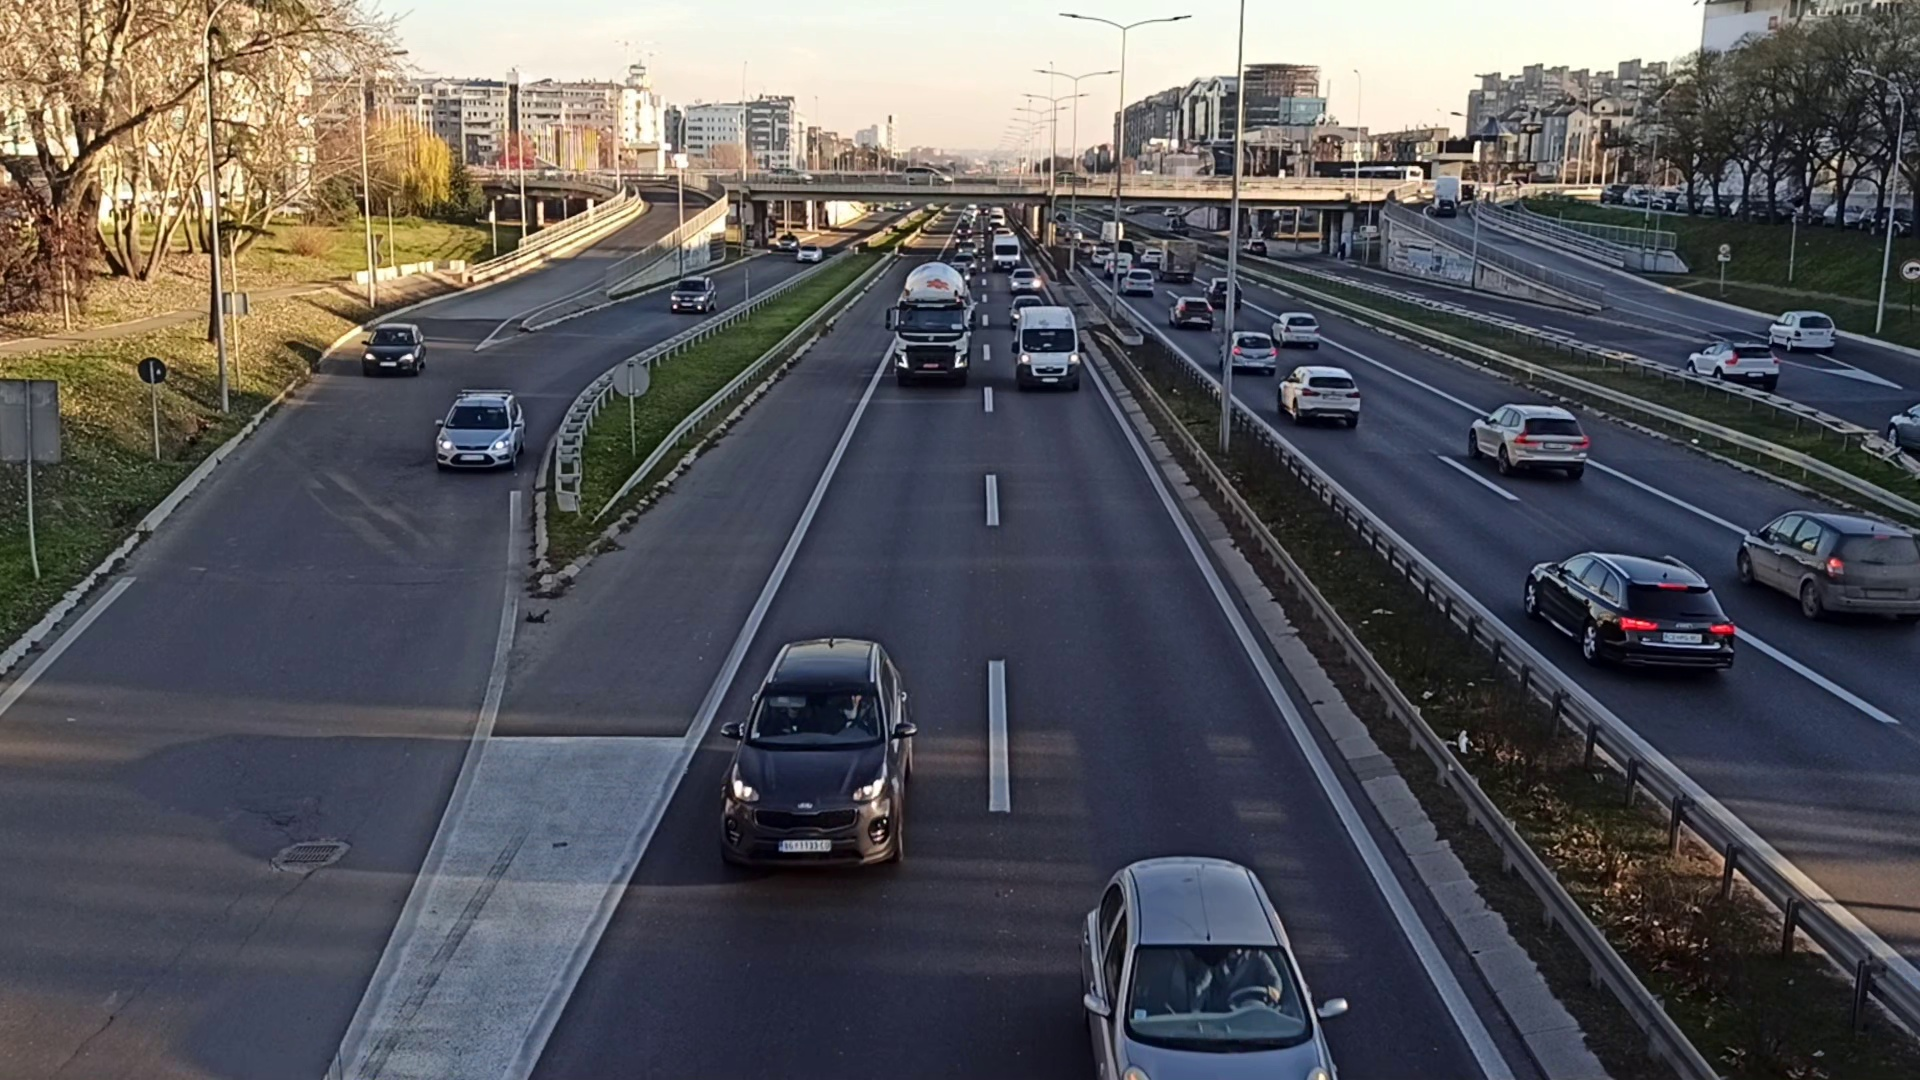car: (719, 636, 916, 885), (1524, 549, 1734, 679), (1743, 510, 1920, 626), (1469, 404, 1588, 480), (433, 386, 525, 473), (1279, 367, 1362, 429), (364, 322, 423, 376), (1224, 331, 1276, 375), (1273, 310, 1320, 349), (671, 276, 715, 314), (1168, 297, 1212, 331), (1122, 268, 1155, 295), (1010, 268, 1040, 291)
truck: (895, 266, 971, 382)
van: (1017, 305, 1079, 389), (994, 229, 1019, 272)
